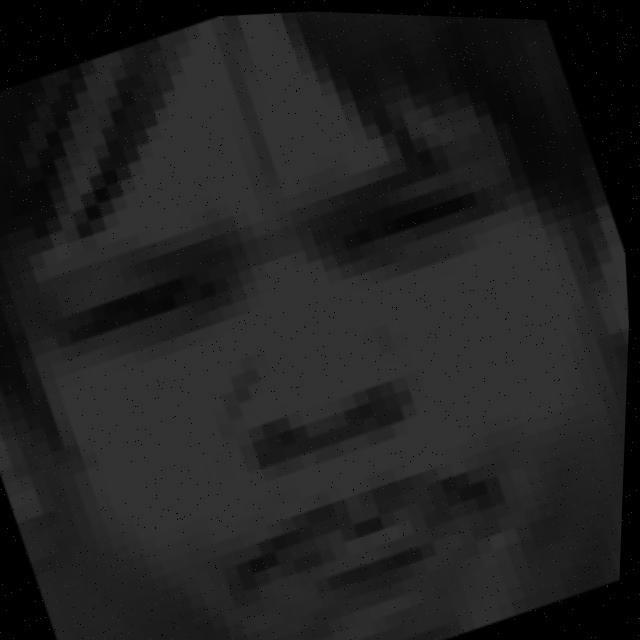Disgust: (32, 99, 588, 613)
